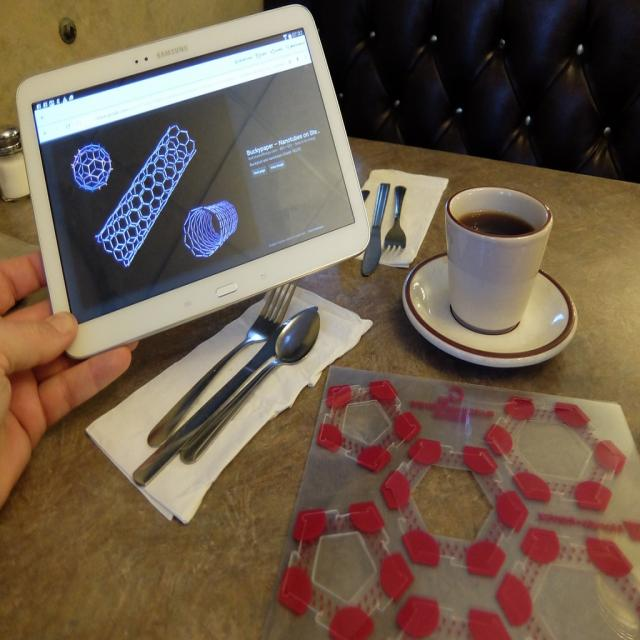Coffee: (433, 174, 549, 330)
Tea: (458, 211, 534, 237)
